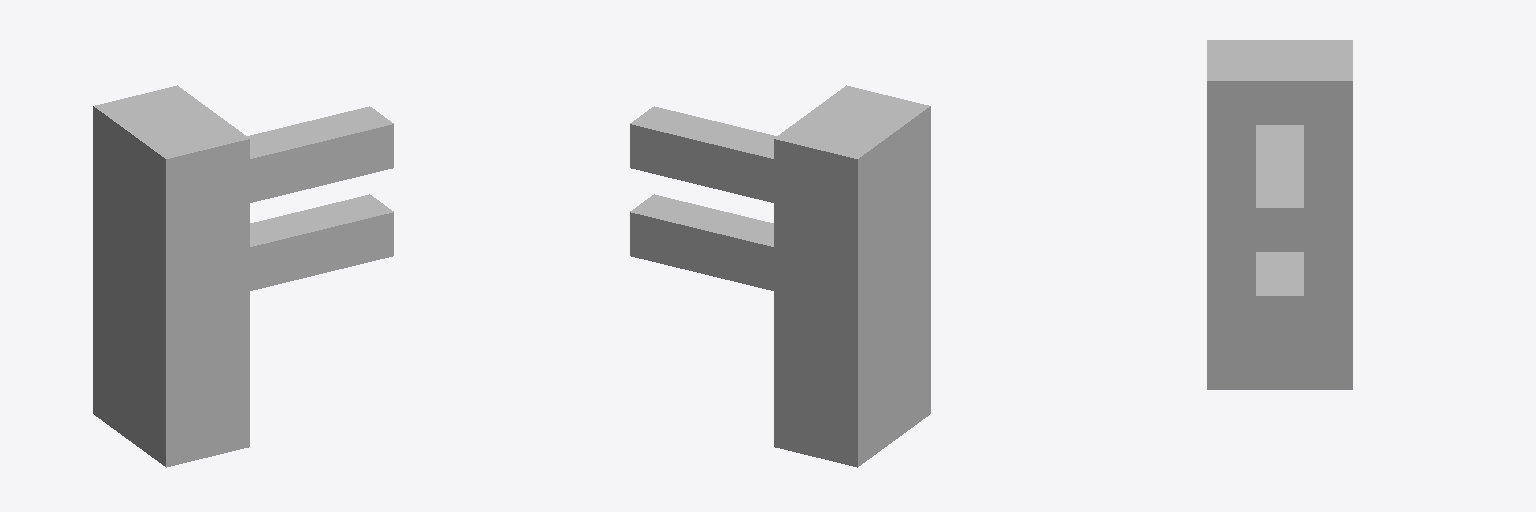
The model's file is Railing_2 Bridge.obj.
3 renders of one model, left to right at view 1: azimuth 30°, elevation 25°; view 2: azimuth 150°, elevation 25°; view 3: azimuth 270°, elevation 25°, orthographic.
Visible parts, largest first — view 1: object 1; view 2: object 1; view 3: object 1.
Part boxes in pixels (bbox=[...]): object 1: bbox=[93, 85, 393, 467]; object 1: bbox=[630, 85, 930, 467]; object 1: bbox=[1207, 40, 1352, 389].
Size of the model in its own units: 0.6 by 0.7 by 0.3.